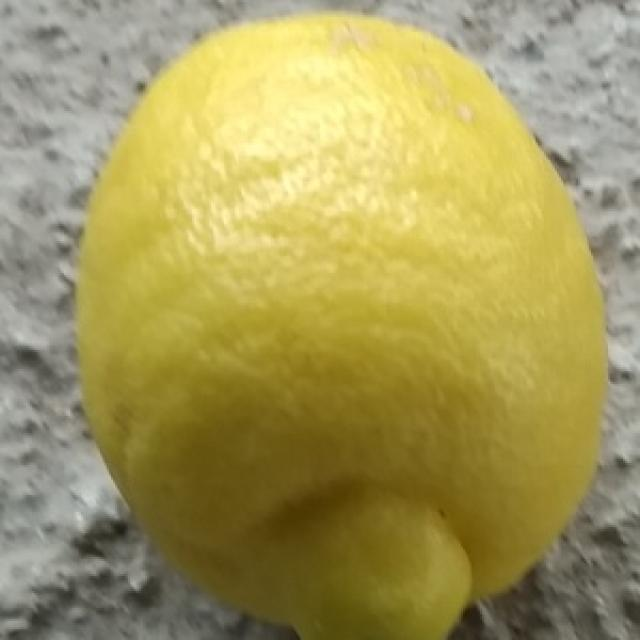Ripe: (68, 9, 612, 640)
